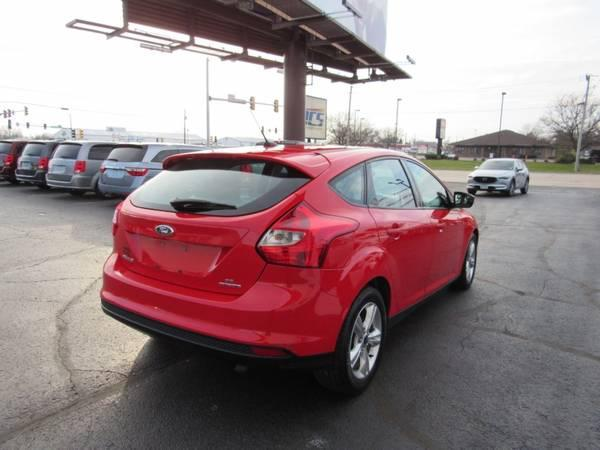Front_Fender: (457, 210, 481, 275)
Front_Right_Door: (424, 209, 462, 297)
Front_Right_Window: (404, 161, 461, 210)
Rear_Bumper: (95, 252, 369, 361)
Rear_Fender: (305, 159, 386, 279)
Rear_Right_Door: (371, 204, 433, 315)
Rear_Right_Window: (368, 158, 424, 210)
Rear_Windshield: (132, 156, 312, 217)
Right_Taillight: (256, 200, 362, 270)
Roof: (162, 143, 421, 198)
Tailgate: (109, 192, 304, 297)
Wheel: (344, 286, 396, 385), (464, 238, 482, 288)
